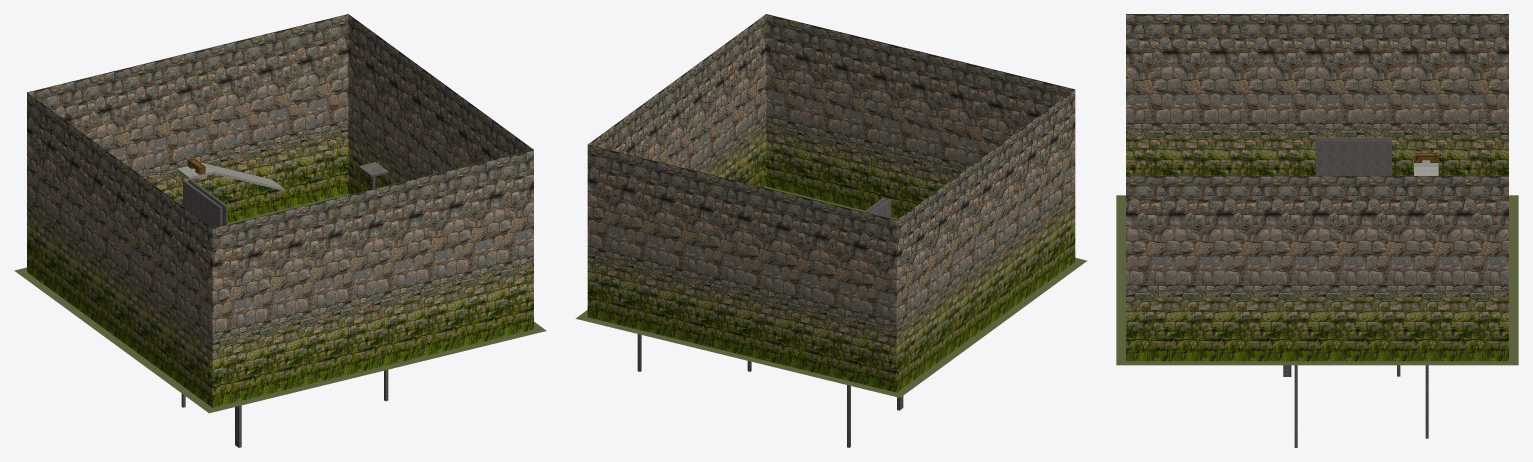
File: Map1.obj
3 renders of one model, left to right at view 1: azimuth 30°, elevation 25°; view 2: azimuth 150°, elevation 25°; view 3: azimuth 270°, elevation 25°, orthographic. The views are drawn at different scales.
Bounding box in the file's own units: 171 × 145 × 171.
10 materials, 10 textured.
